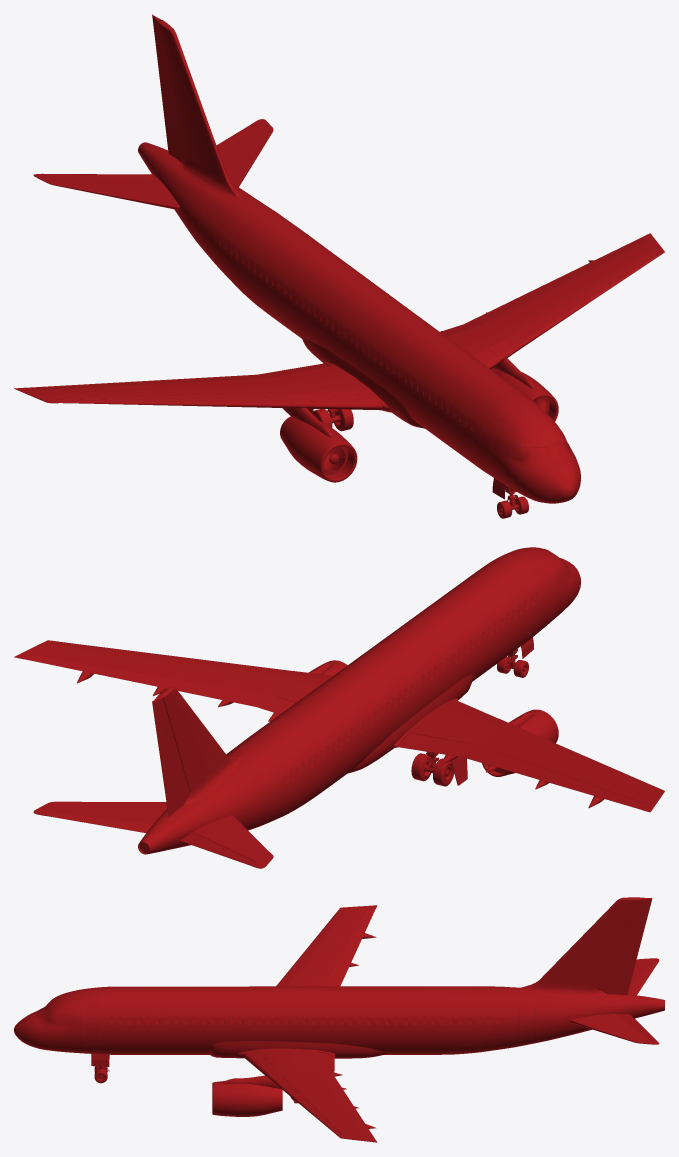
File: Airbus.glb
3 renders of one model, top to bottom at view 1: azimuth 30°, elevation 25°; view 2: azimuth 150°, elevation 25°; view 3: azimuth 270°, elevation 25°, orthographic. The views are drawn at different scales.
Parts seen in each view (by area): view 1: airplane.1; view 2: airplane.1; view 3: airplane.1.
Part boxes in pixels (x1,y1,x2,y2): airplane.1: (14,14,664,518); airplane.1: (14,547,664,868); airplane.1: (14,897,664,1142).
Bounding box in the file's own units: 1.82 × 0.6472 × 2.11.
